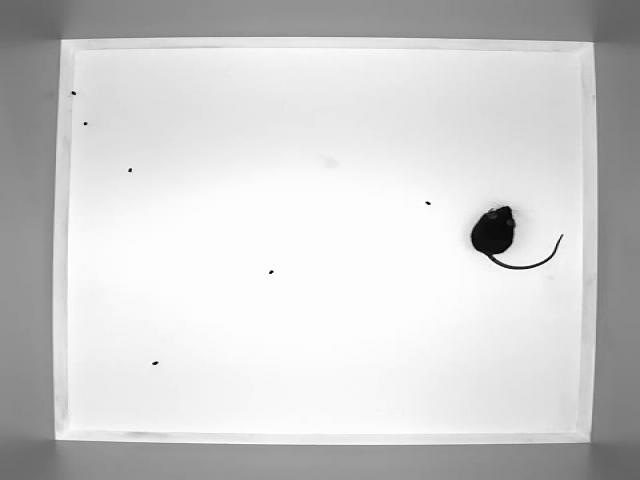Tikus: (463, 205, 575, 271)
